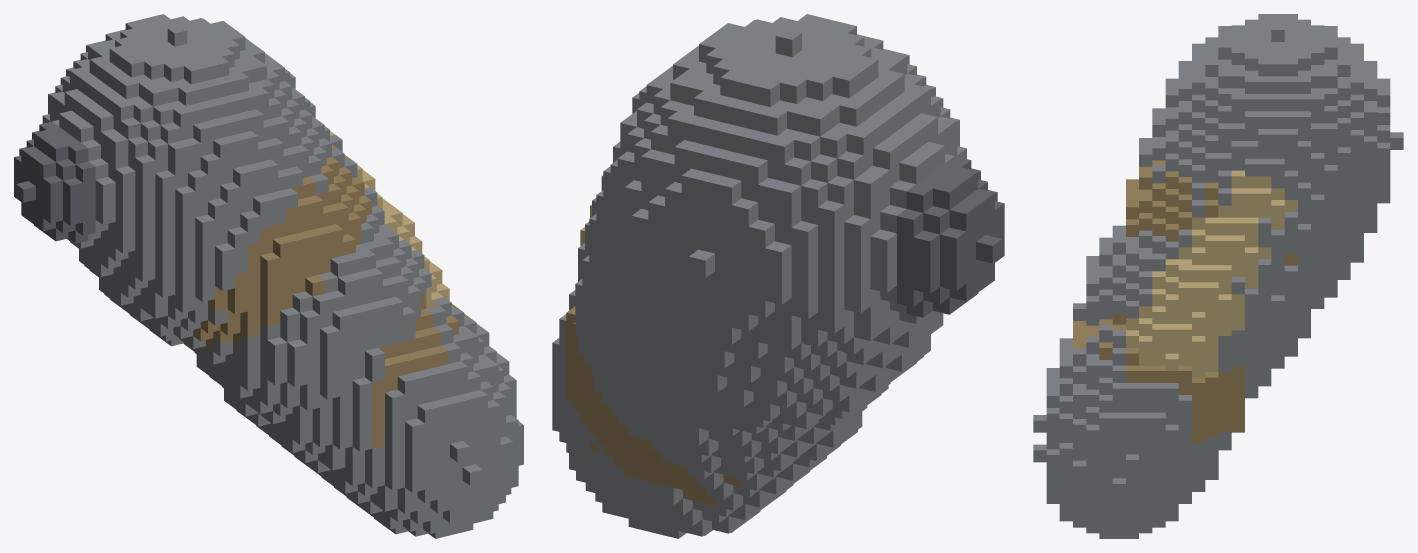
The model's file is rf_thigh.glb.
3 renders of one model, left to right at view 1: azimuth 30°, elevation 25°; view 2: azimuth 150°, elevation 25°; view 3: azimuth 270°, elevation 25°, orthographic. The views are drawn at different scales.
Bounding box in the file's own units: 32 × 36 × 28.
